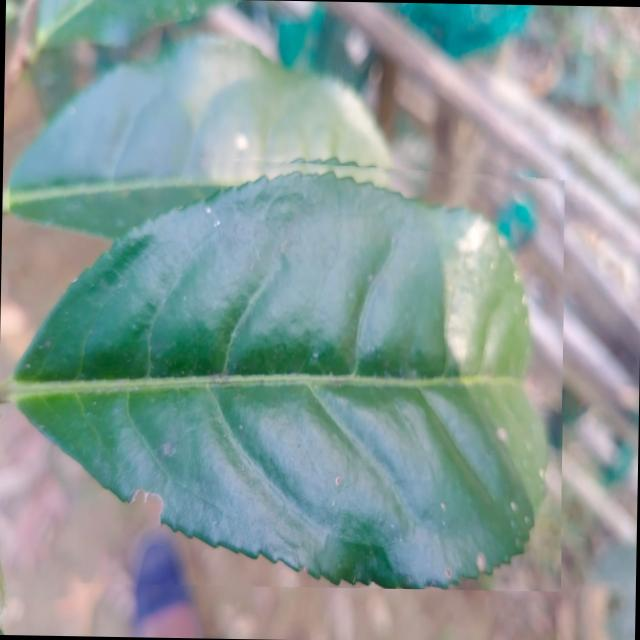Category D(7+ days, Not for Tea): (2, 144, 568, 590)
